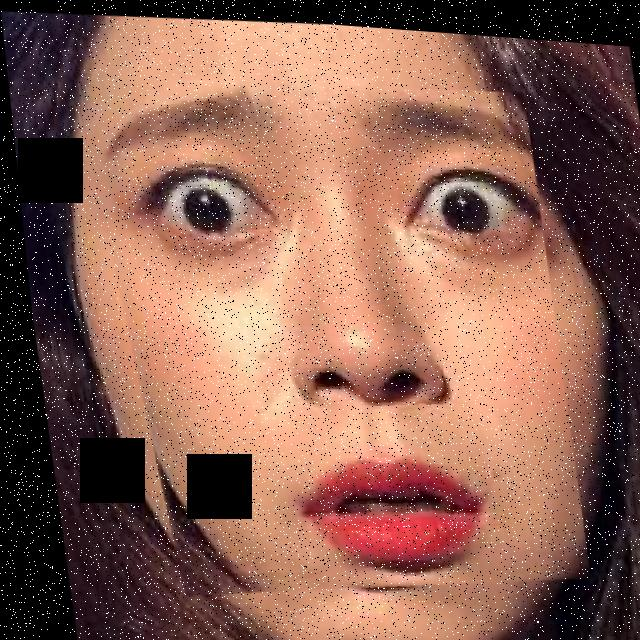fear: (68, 58, 584, 618)
